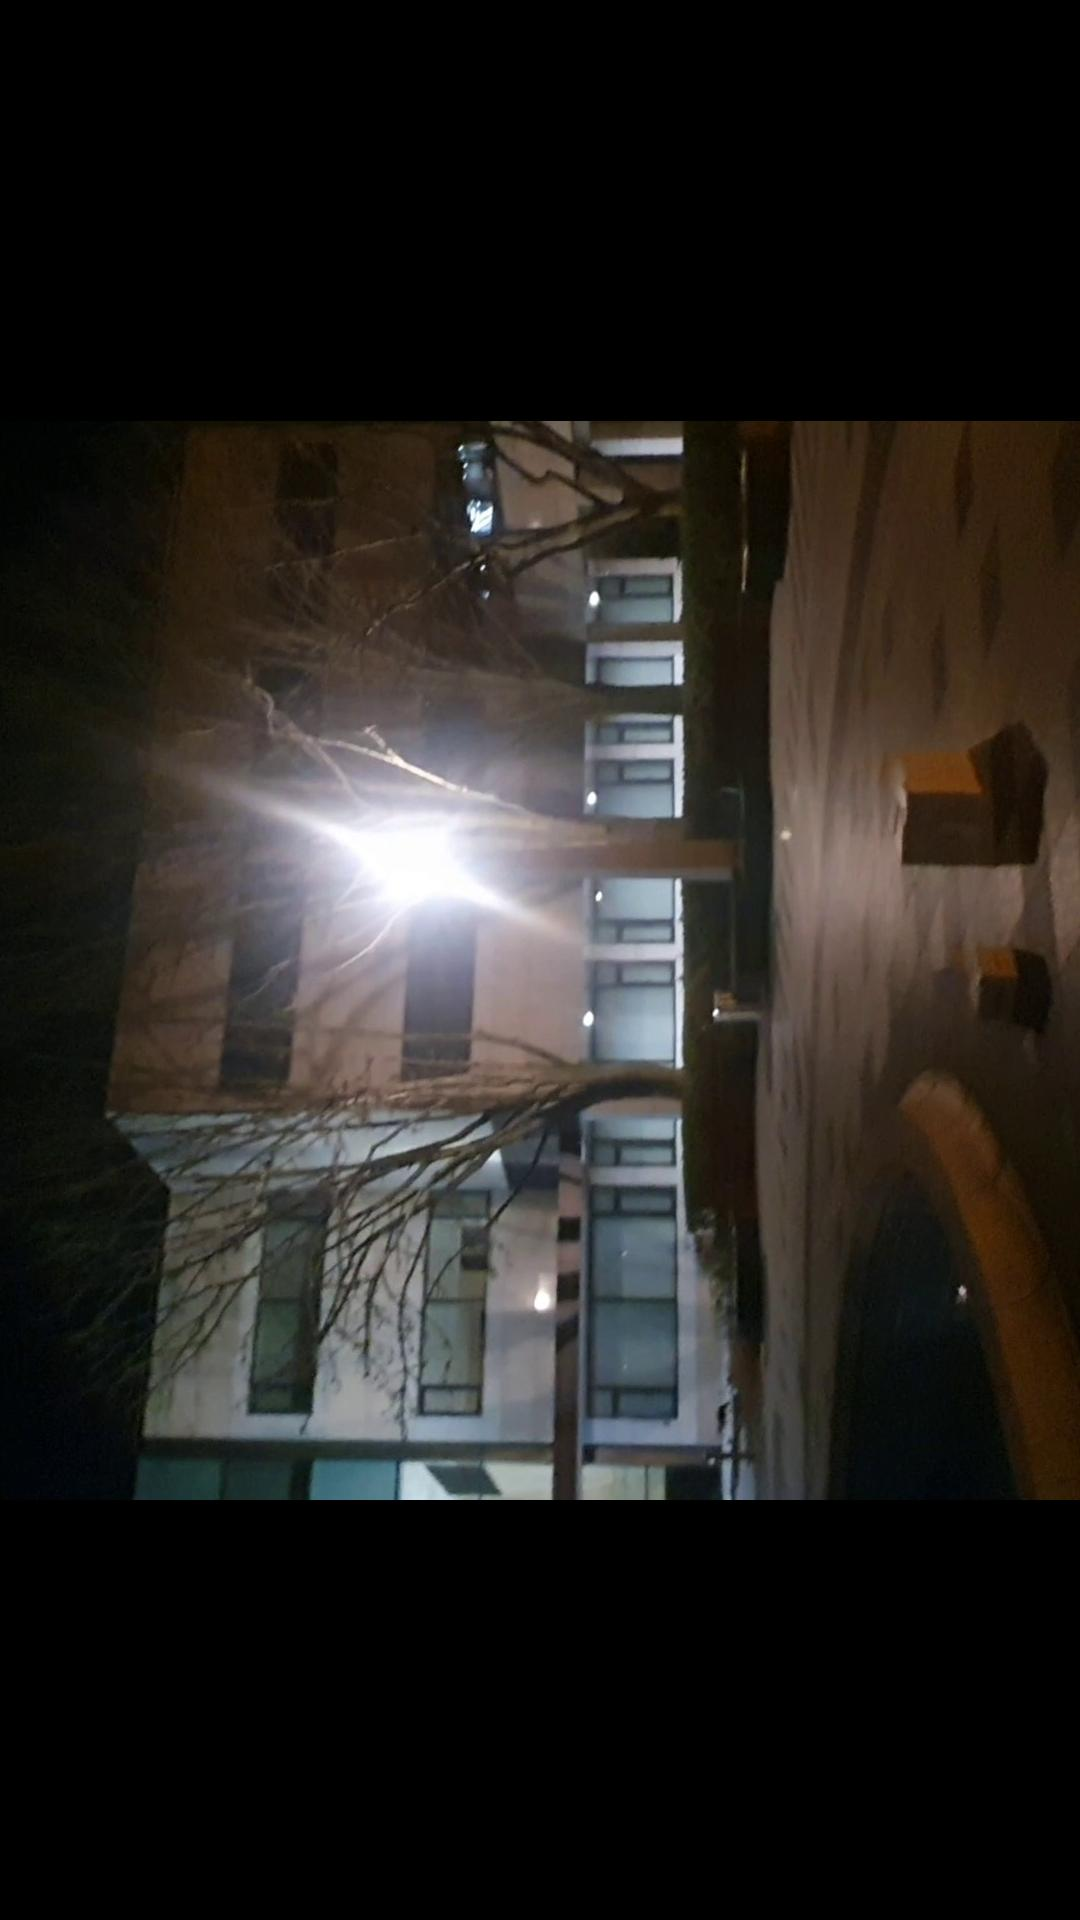Box: (887, 750, 988, 874), (953, 952, 1007, 1019)
